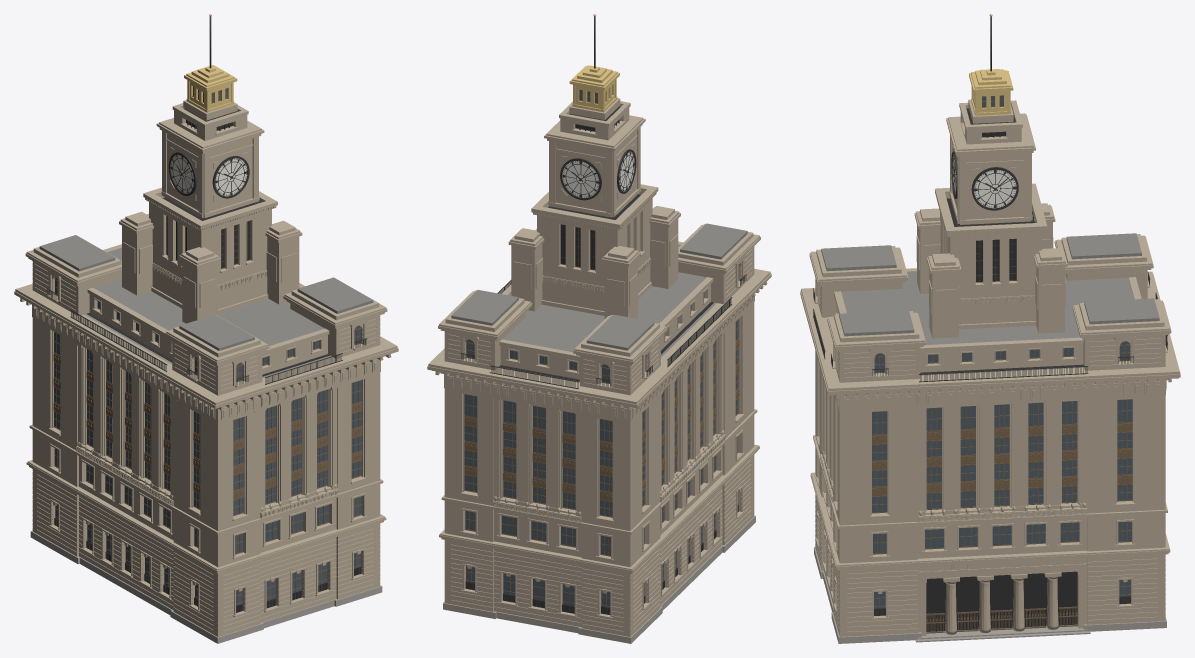
The model's file is bund-customs-house.glb.
3 views of the same model, side by side, from view 1: azimuth 30°, elevation 25°; view 2: azimuth 150°, elevation 25°; view 3: azimuth 270°, elevation 25° (orthographic). The views are drawn at different scales.
Parts seen in each view (by area): view 1: bund-customs-house; view 2: bund-customs-house; view 3: bund-customs-house.
Part boxes in pixels (left/top/right/bottom): bund-customs-house: left=14, top=14, right=398, bottom=643; bund-customs-house: left=427, top=14, right=771, bottom=643; bund-customs-house: left=800, top=14, right=1180, bottom=643.
Size of the model in its own units: 31.41 by 71.76 by 42.77.
